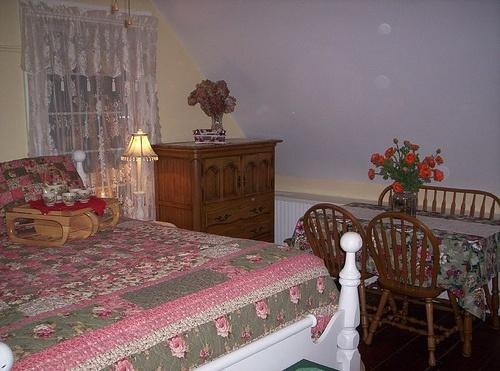chair: (299, 200, 404, 349), (364, 215, 465, 363)
diningtable: (289, 191, 500, 356)
